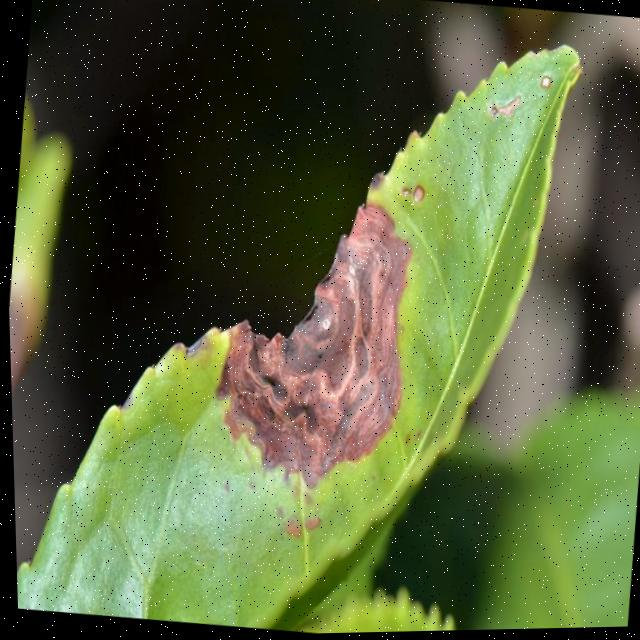Tea cloud leaf blight: (215, 177, 447, 473)
